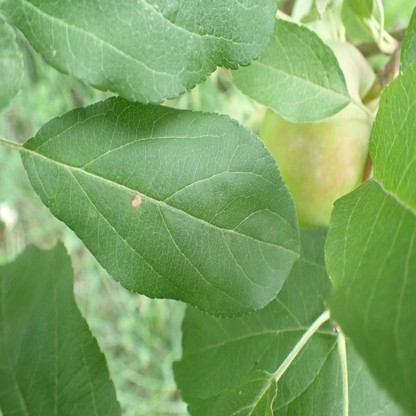frogeye: (131, 192, 142, 208)
